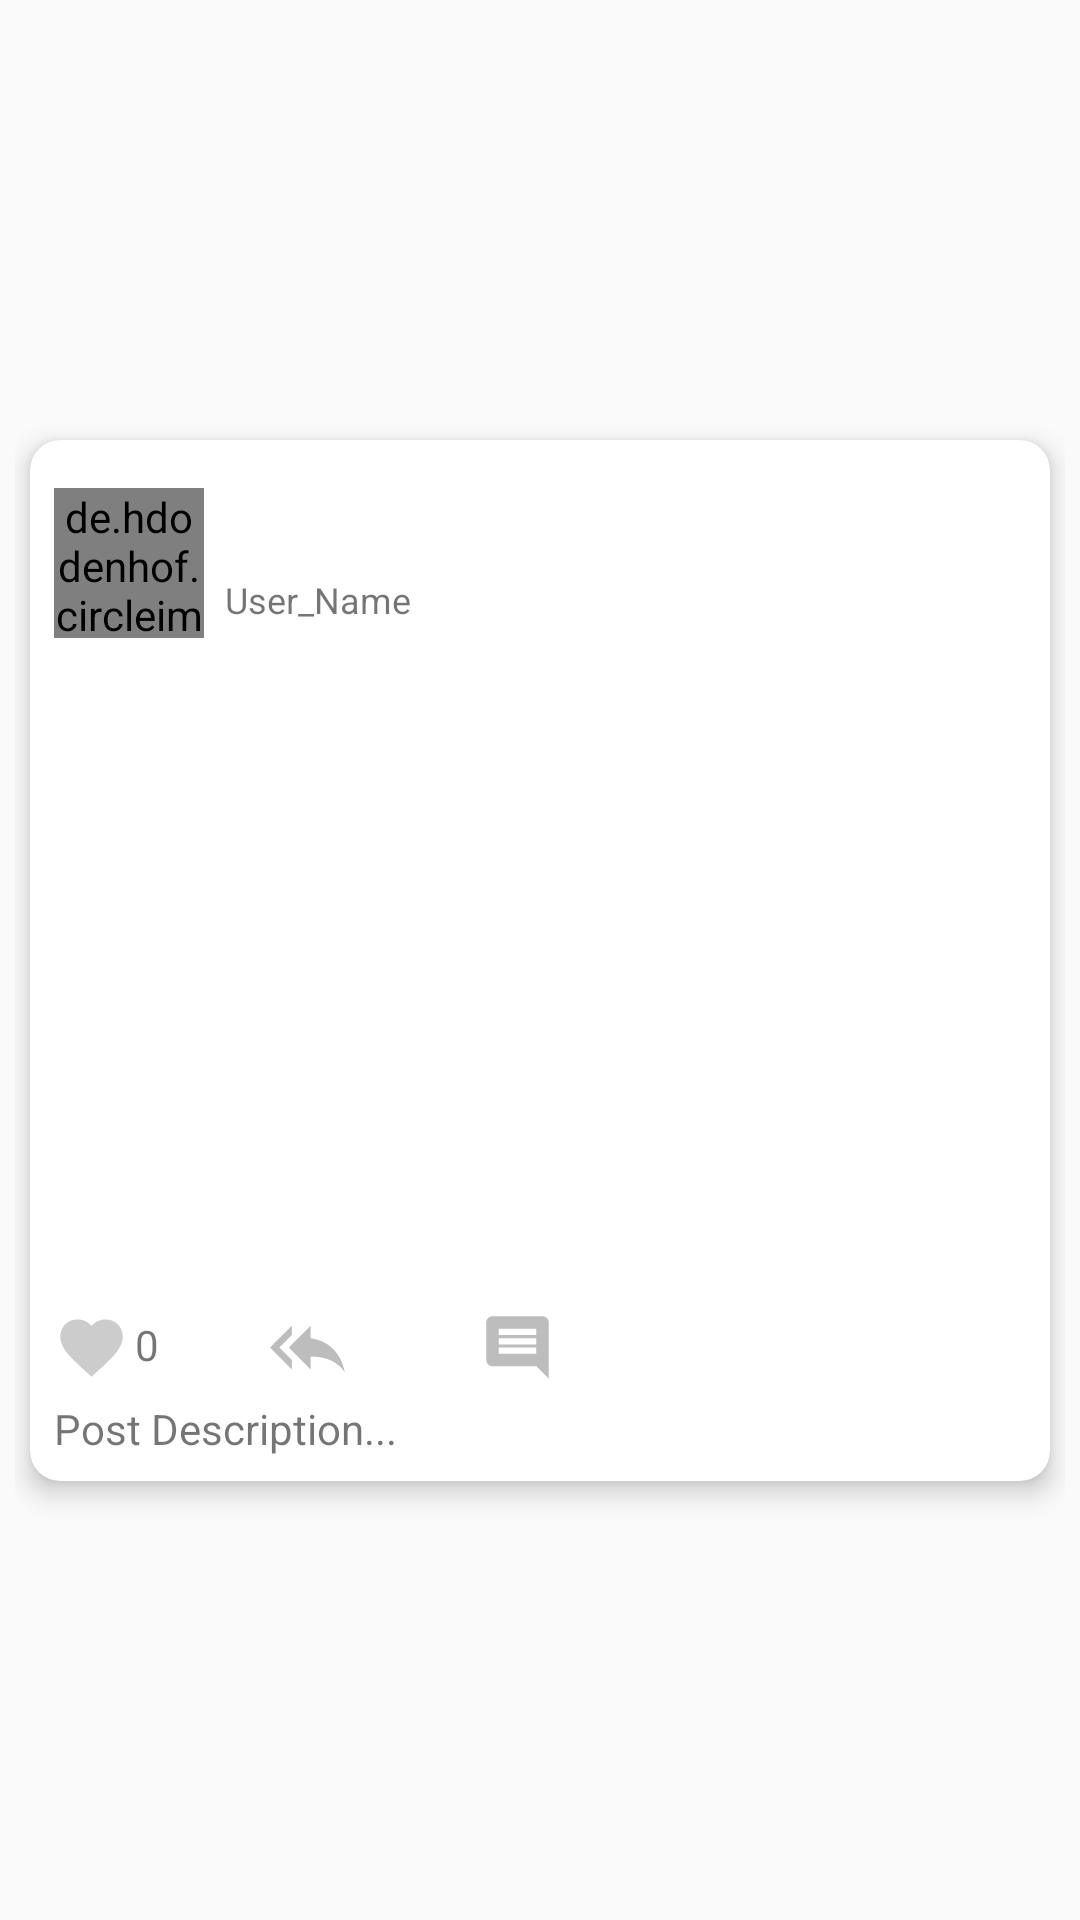

Screen size 1080w x 1920h. Icon name, then its box in pixels as detection(x1, y1, x2, y2):
comment: detection(486, 1316, 549, 1378)
unliked: detection(60, 1319, 123, 1377)
